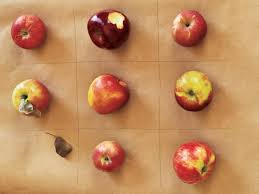apple: (173, 143, 215, 184), (88, 77, 127, 114), (92, 141, 126, 170)
damaged_apple: (172, 69, 216, 112), (86, 11, 133, 49), (10, 80, 50, 118), (170, 10, 209, 48), (10, 15, 47, 49)
